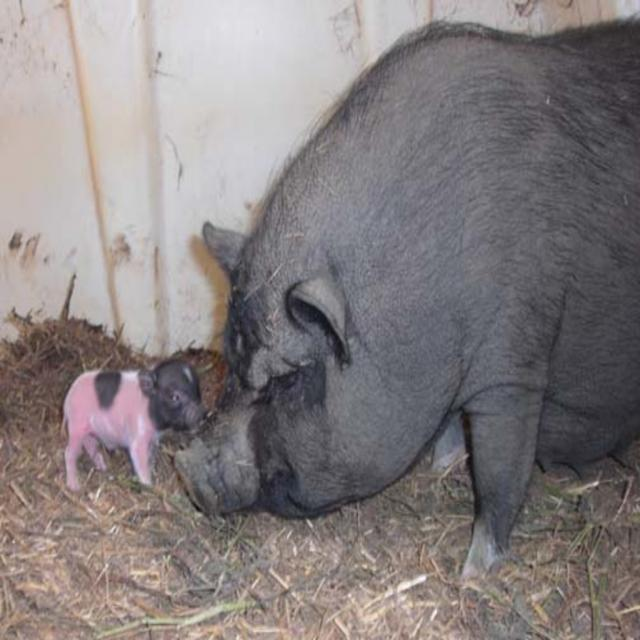Pig: (176, 11, 638, 588), (59, 356, 204, 490)
